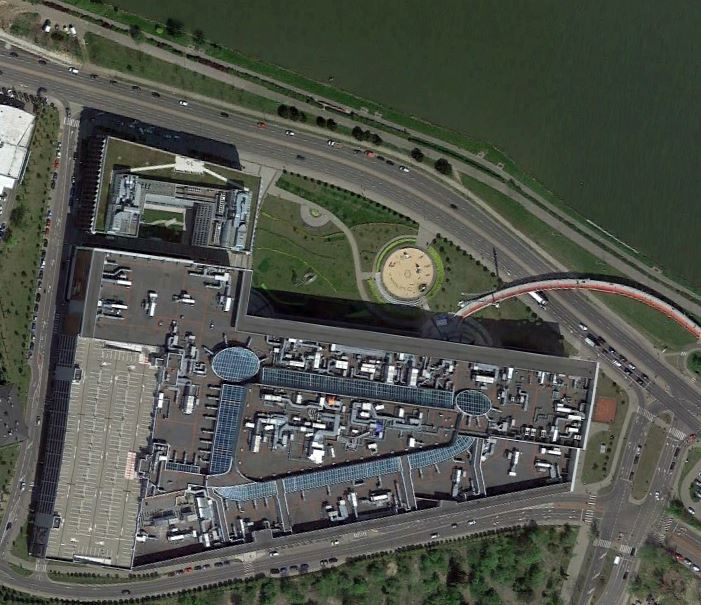shopping_center: (28, 245, 601, 576), (75, 126, 266, 258)
